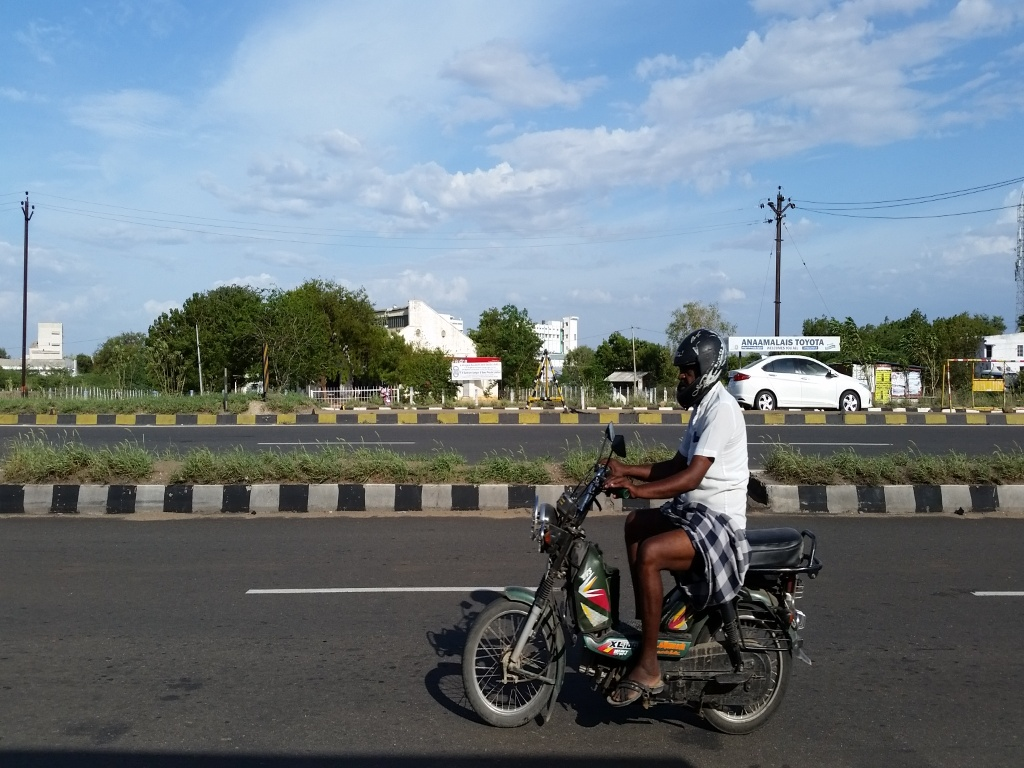biker: (440, 283, 836, 752)
helmet: (667, 315, 741, 418)
